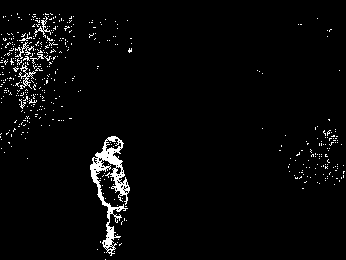person: (90, 134, 130, 257)
